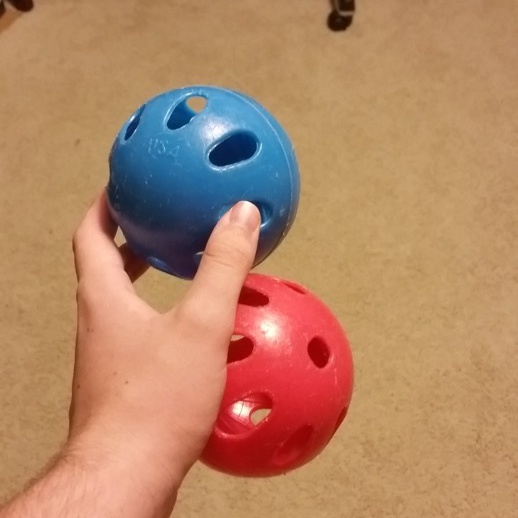ball: (100, 81, 307, 285), (195, 271, 359, 482)
